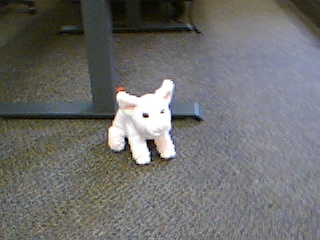piggy: (106, 78, 178, 166)
